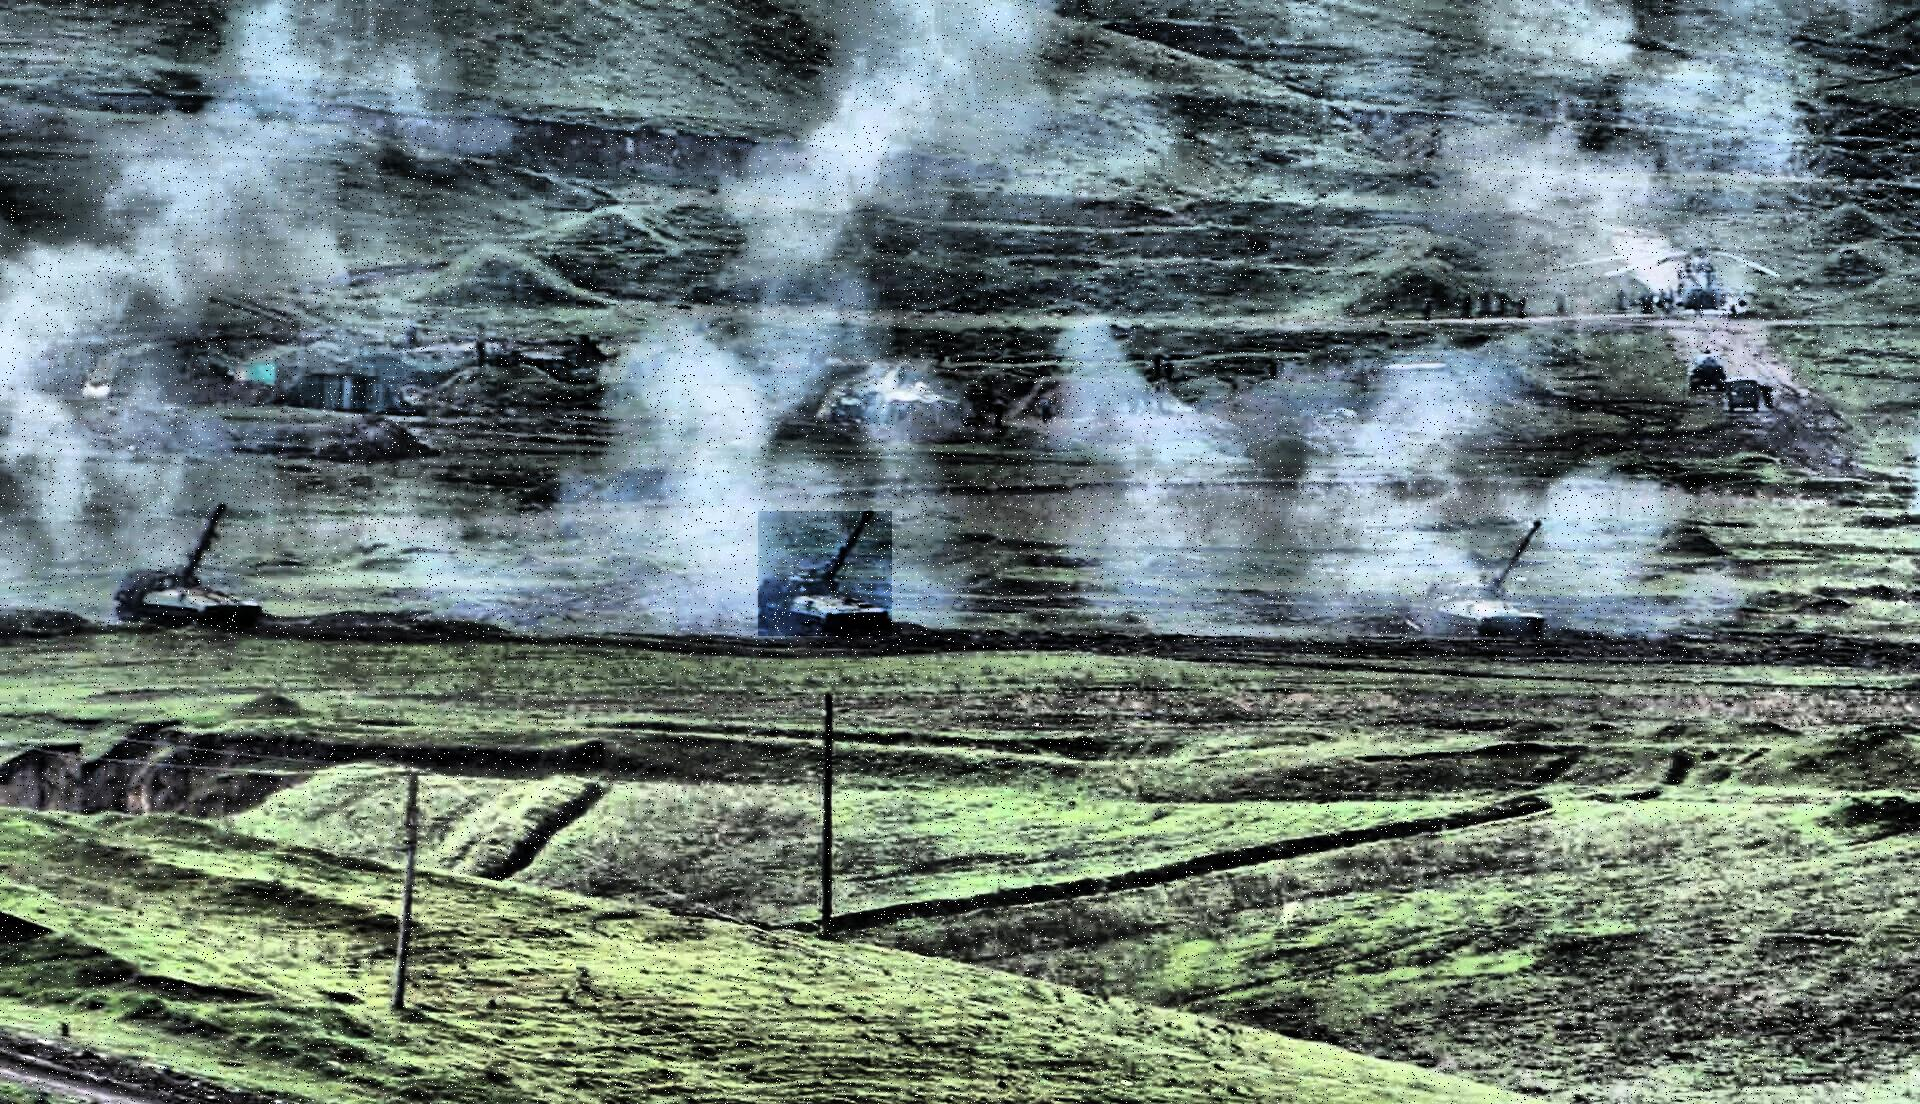military-vehicle: (110, 500, 270, 633), (758, 512, 892, 637), (1420, 523, 1555, 635)
